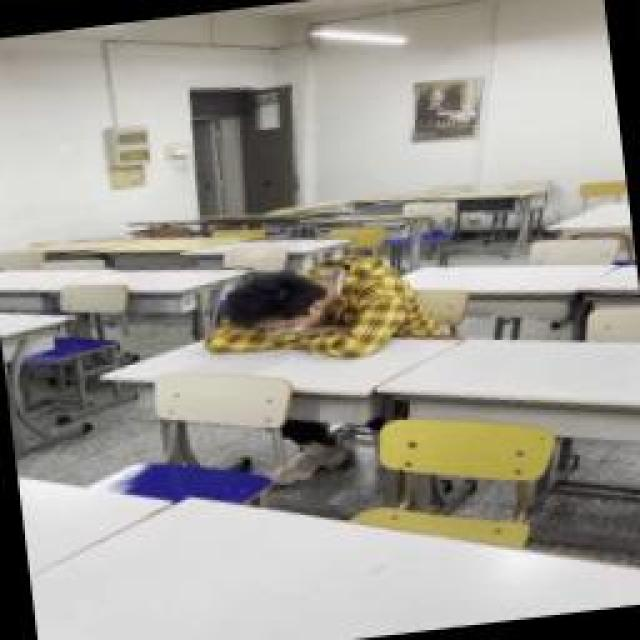sleep: (192, 247, 430, 375)
